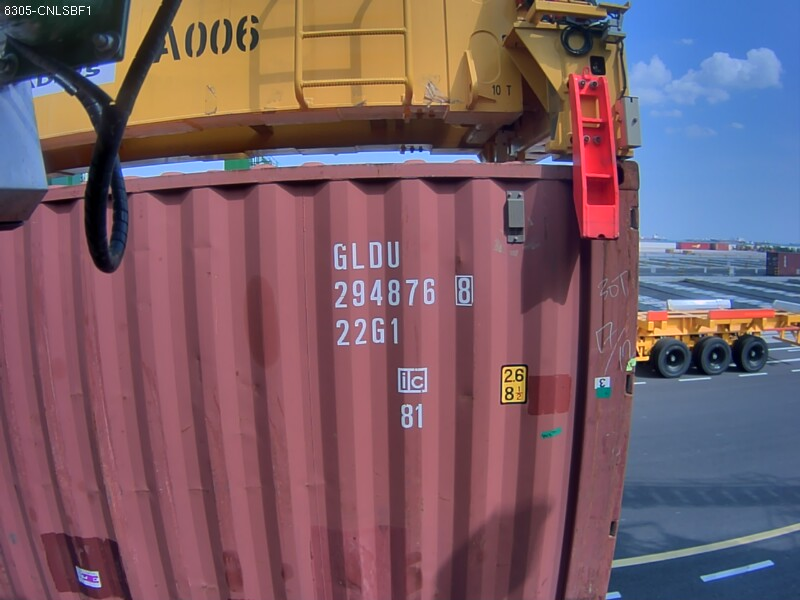container_no_door: (197, 160, 550, 600)
